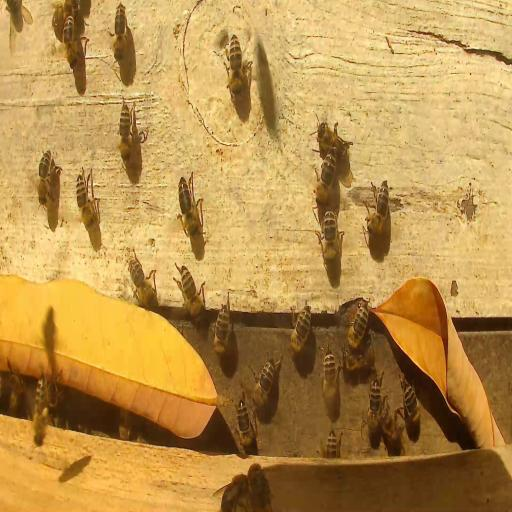nonpollenbee: (175, 264, 208, 328), (364, 174, 392, 240), (129, 256, 160, 314), (249, 355, 278, 413), (76, 167, 101, 233), (315, 121, 348, 171), (178, 173, 202, 240), (318, 209, 342, 271), (226, 34, 248, 98), (211, 302, 233, 363), (315, 150, 338, 208), (246, 462, 272, 512), (340, 345, 376, 379), (400, 374, 422, 429), (366, 376, 384, 442), (216, 475, 249, 511), (322, 348, 338, 419), (290, 301, 312, 352), (236, 398, 256, 453), (62, 14, 82, 68), (347, 300, 369, 349), (380, 405, 402, 454), (51, 0, 81, 35), (119, 98, 135, 163), (37, 151, 54, 204), (113, 2, 128, 62), (46, 380, 62, 408), (325, 430, 340, 458), (118, 423, 132, 439)
pollenbee: (32, 375, 50, 450)
